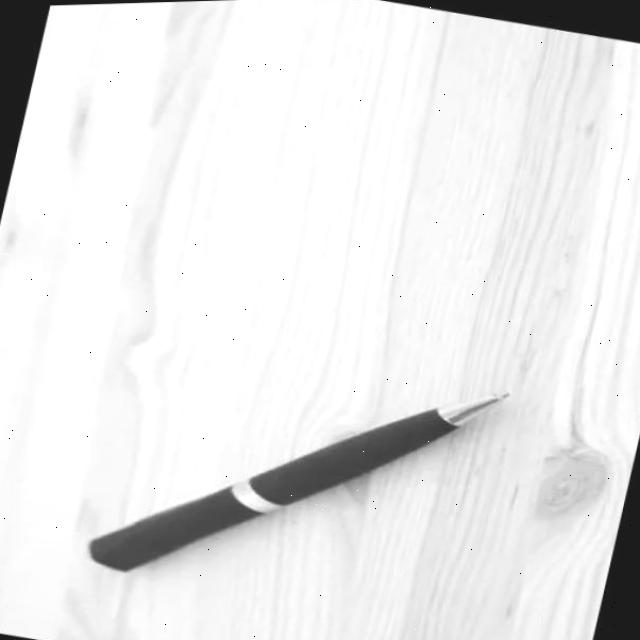pencil: (79, 360, 520, 580)
